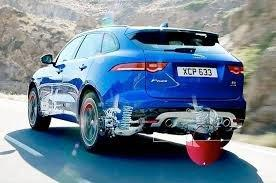license-plates: (178, 67, 219, 77)
